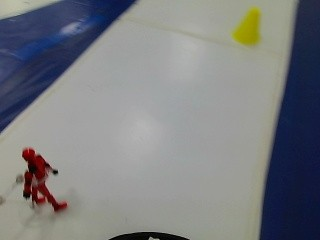cone: (230, 0, 264, 50)
pedestrian: (11, 140, 74, 214)
